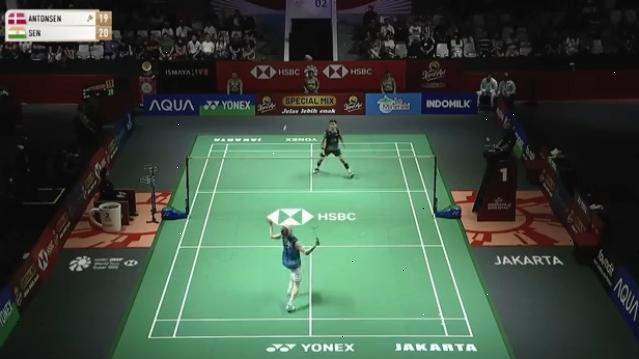Shuttlecock: (280, 123, 290, 133)
